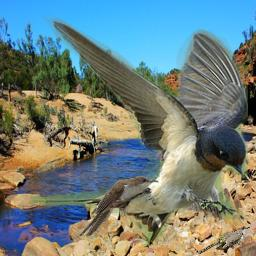Cuckoo: (79, 176, 159, 236), (197, 226, 250, 254)
Swallow: (30, 15, 248, 246)
